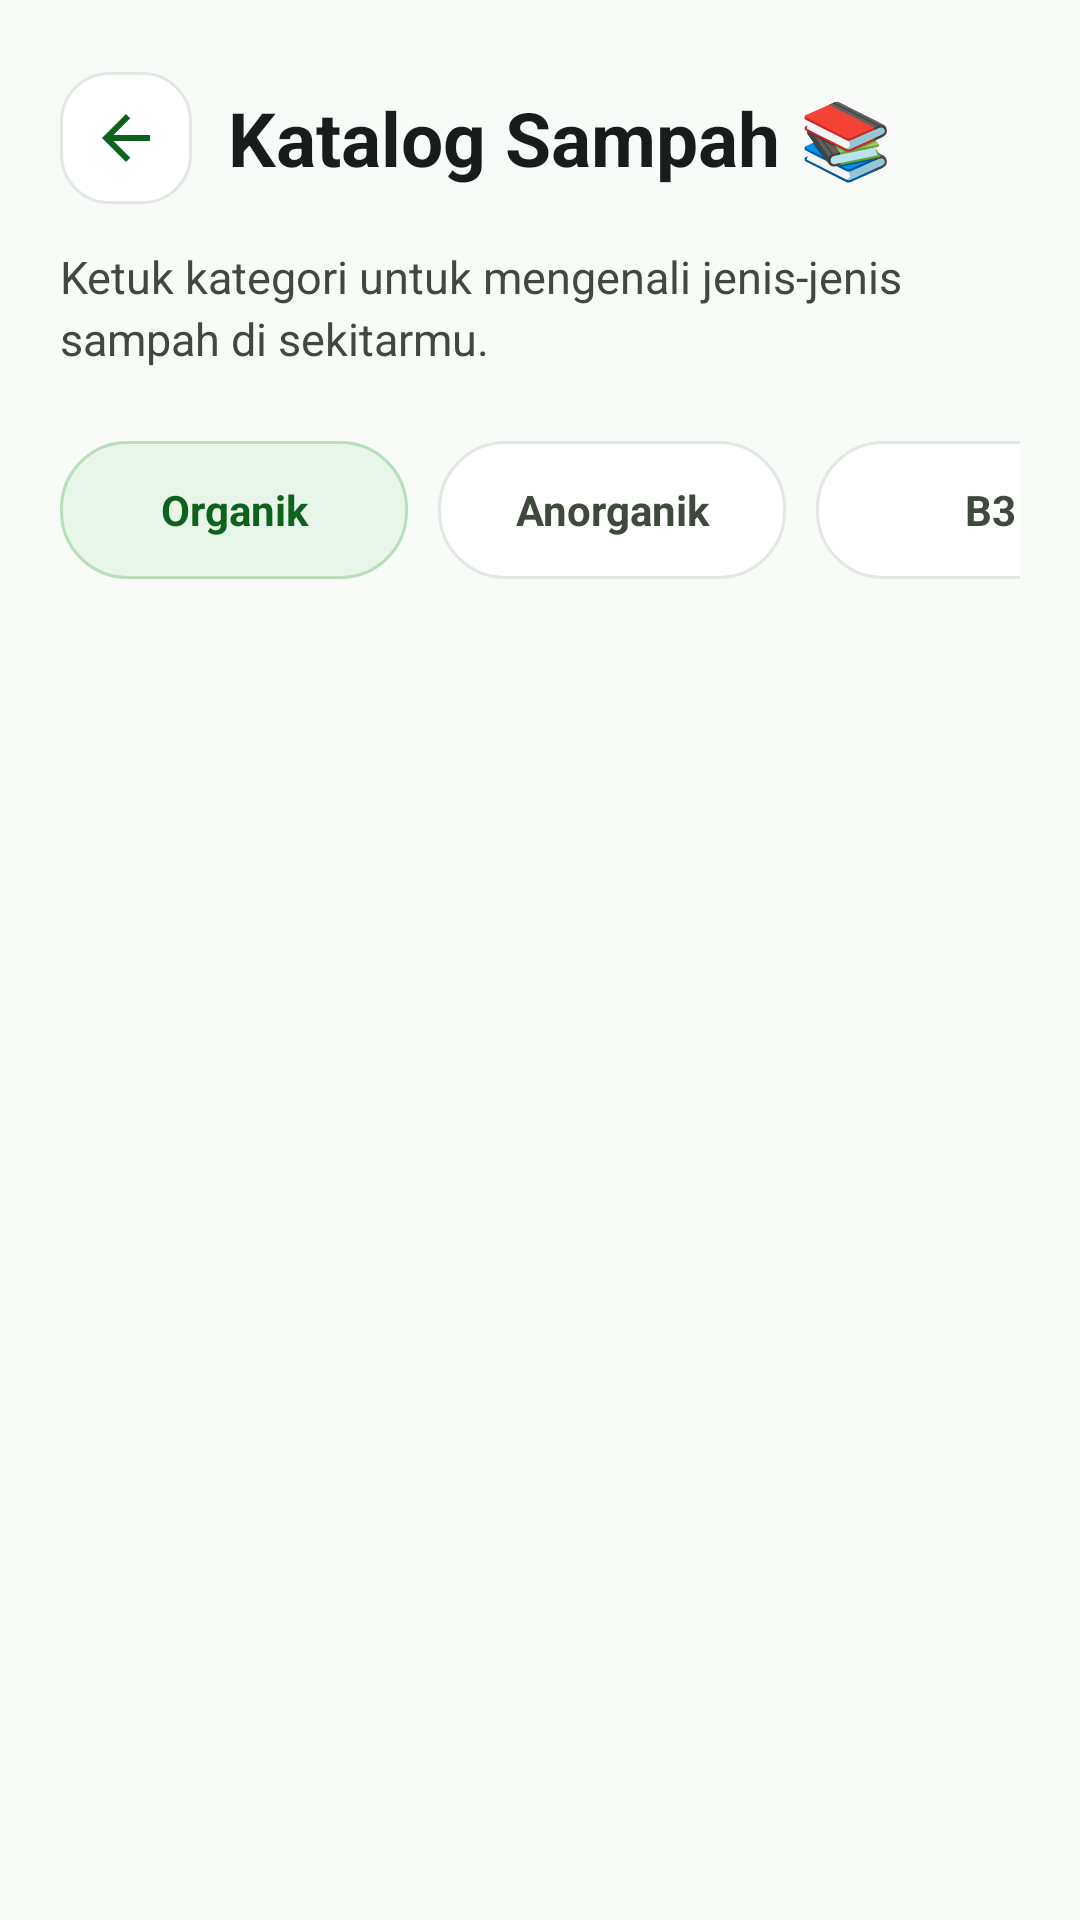

Where to tap for icons on this 1080x1920 app screen, as (x,y):
Kembali: (126,138)
